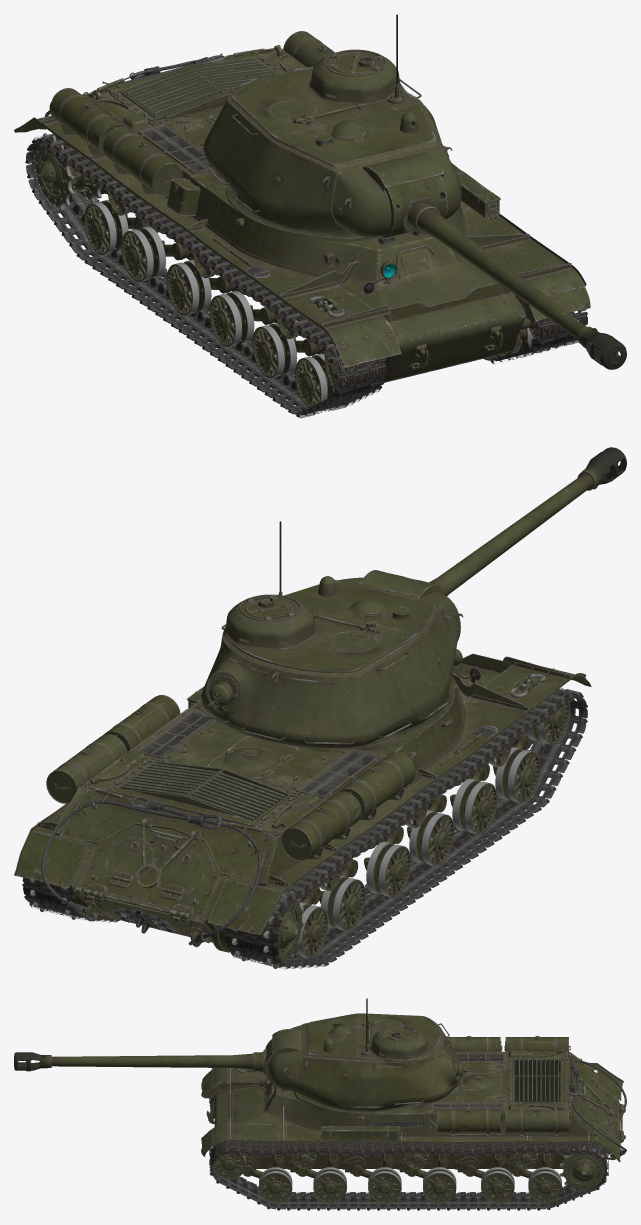
The picture shows the model from 3 angles, top to bottom: view 1: azimuth 30°, elevation 25°; view 2: azimuth 150°, elevation 25°; view 3: azimuth 270°, elevation 25°; orthographic projection. The views are drawn at different scales.
Parts seen in each view (by area): view 1: Object_19, Object_23, Object_7, Object_16, Object_20, Object_27, Object_17, wheelLS, wheelL4, wheelL2, Object_22, wheelL3 (+8 smaller); view 2: Object_19, Object_23, Object_7, Object_16, Object_20, Object_21, Object_18, Object_27, Object_17, Object_22, Object_2, wheelL5 (+10 smaller); view 3: Object_19, Object_23, Object_4, Object_16, Object_18, Object_27, Object_20, Object_17, Object_21, wheelRS, wheelR4, wheelR2 (+11 smaller).
Boxes of the visible parts, left/top/right/bottom form: Object_19: left=41, top=45, right=586, bottom=385; Object_23: left=200, top=49, right=463, bottom=236; Object_7: left=25, top=133, right=387, bottom=418; Object_16: left=41, top=45, right=585, bottom=354; Object_20: left=14, top=88, right=431, bottom=284; Object_27: left=382, top=175, right=626, bottom=369; Object_17: left=213, top=163, right=590, bottom=322; wheelLS: left=35, top=133, right=102, bottom=210; wheelL4: left=209, top=291, right=254, bottom=346; wheelL2: left=121, top=226, right=165, bottom=282; Object_22: left=266, top=14, right=397, bottom=123; wheelL3: left=166, top=259, right=211, bottom=315; Object_19: left=41, top=656, right=585, bottom=952; Object_23: left=196, top=570, right=463, bottom=748; Object_7: left=224, top=688, right=587, bottom=969; Object_16: left=37, top=661, right=585, bottom=945; Object_20: left=207, top=649, right=462, bottom=934; Object_21: left=79, top=826, right=218, bottom=920; Object_18: left=14, top=695, right=180, bottom=888; Object_27: left=429, top=447, right=626, bottom=596; Object_17: left=119, top=653, right=545, bottom=930; Object_22: left=209, top=521, right=380, bottom=706; Object_2: left=139, top=711, right=377, bottom=795; wheelL5: left=450, top=778, right=497, bottom=834; Object_19: left=206, top=1049, right=626, bottom=1168; Object_23: left=268, top=1013, right=465, bottom=1110; Object_4: left=209, top=1141, right=608, bottom=1210; Object_16: left=212, top=1049, right=626, bottom=1173; Object_18: left=428, top=1108, right=620, bottom=1162; Object_27: left=14, top=1039, right=275, bottom=1085; Object_20: left=260, top=1036, right=623, bottom=1102; Object_17: left=201, top=1068, right=614, bottom=1156; Object_21: left=243, top=1082, right=623, bottom=1178; wheelRS: left=559, top=1146, right=608, bottom=1191; wheelR4: left=368, top=1167, right=401, bottom=1203; wheelR2: left=481, top=1167, right=514, bottom=1203.
Bounding box in the file's own units: 3.22 × 3.48 × 10.08.
Materials: 10 (10 with a texture image).
